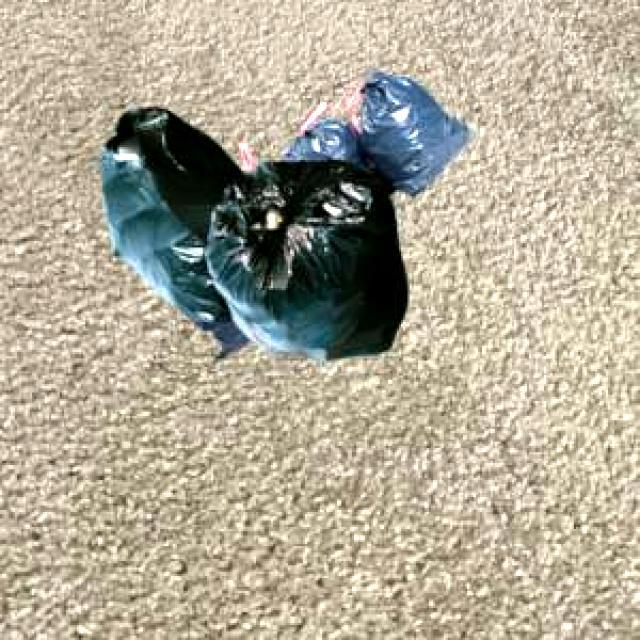Garbage_Bag: (188, 69, 472, 362), (97, 106, 404, 357)
